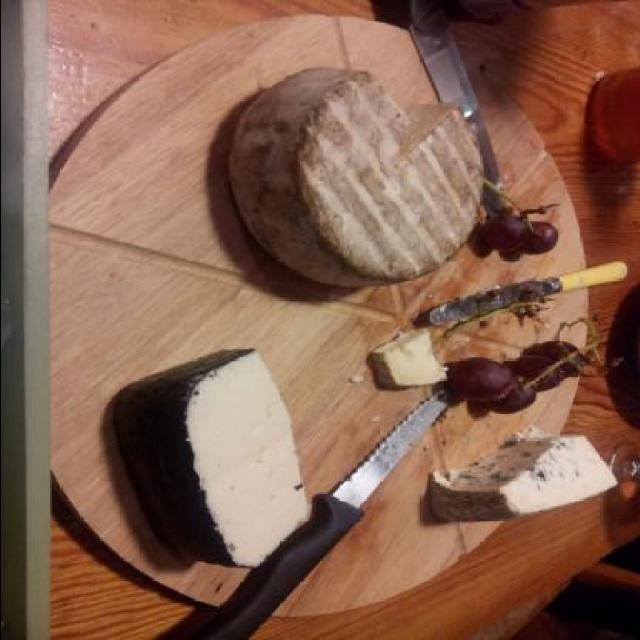Cheese: (226, 66, 484, 292), (112, 348, 314, 570), (428, 426, 620, 526), (369, 328, 446, 384)
